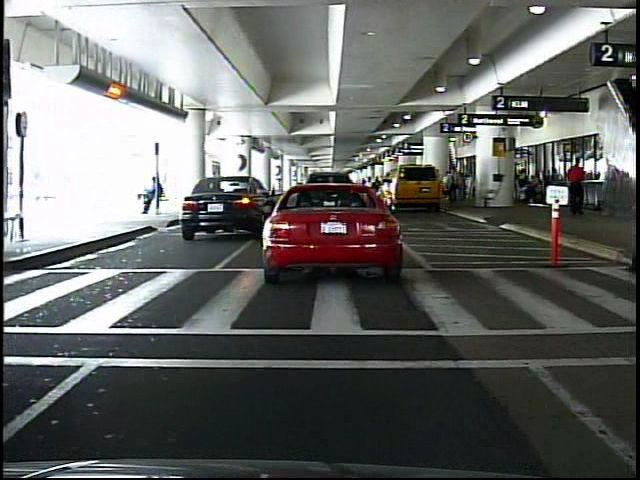person: (628, 134, 639, 285), (568, 158, 585, 217)
